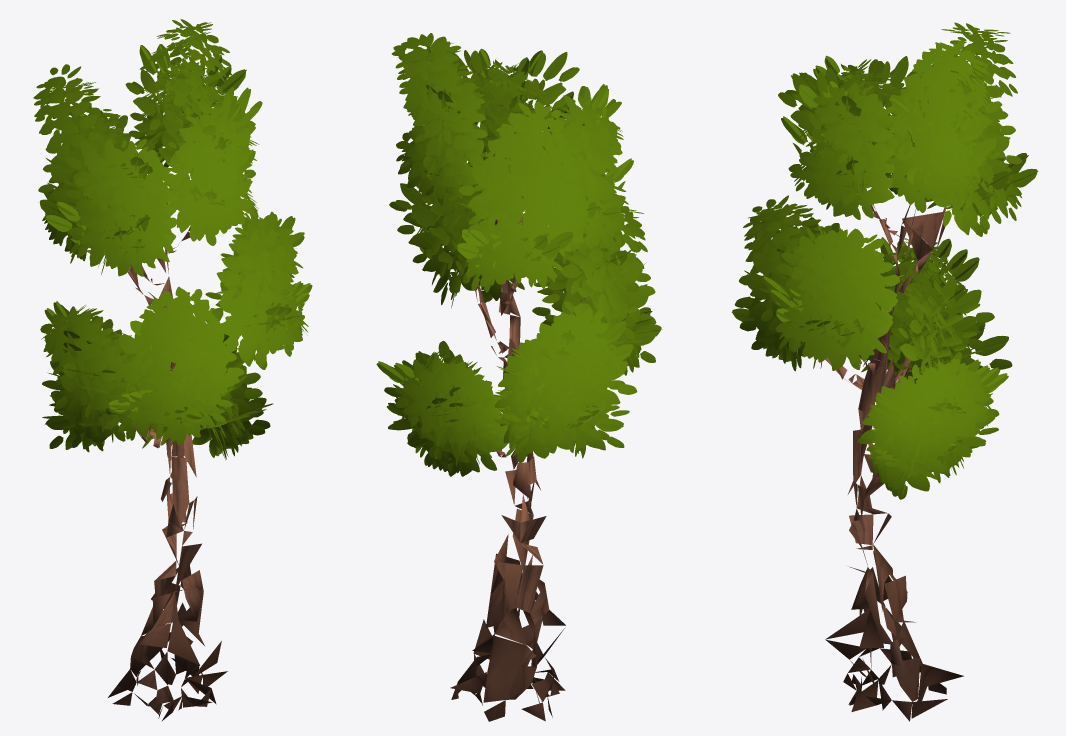
File: pohon-2.glb
The picture shows the model from 3 angles, left to right: view 1: azimuth 30°, elevation 25°; view 2: azimuth 150°, elevation 25°; view 3: azimuth 270°, elevation 25°; orthographic projection. The views are drawn at different scales.
Visible parts, largest first — view 1: CommonTree_3; view 2: CommonTree_3; view 3: CommonTree_3.
Part boxes in pixels (x1=…): CommonTree_3: x1=33, y1=19, x2=312, y2=720; CommonTree_3: x1=376, y1=33, x2=662, y2=721; CommonTree_3: x1=731, y1=22, x2=1038, y2=721.
Bounding box in the file's own units: 4.71 × 10.69 × 4.76.
Materials: 2 (2 with a texture image).
